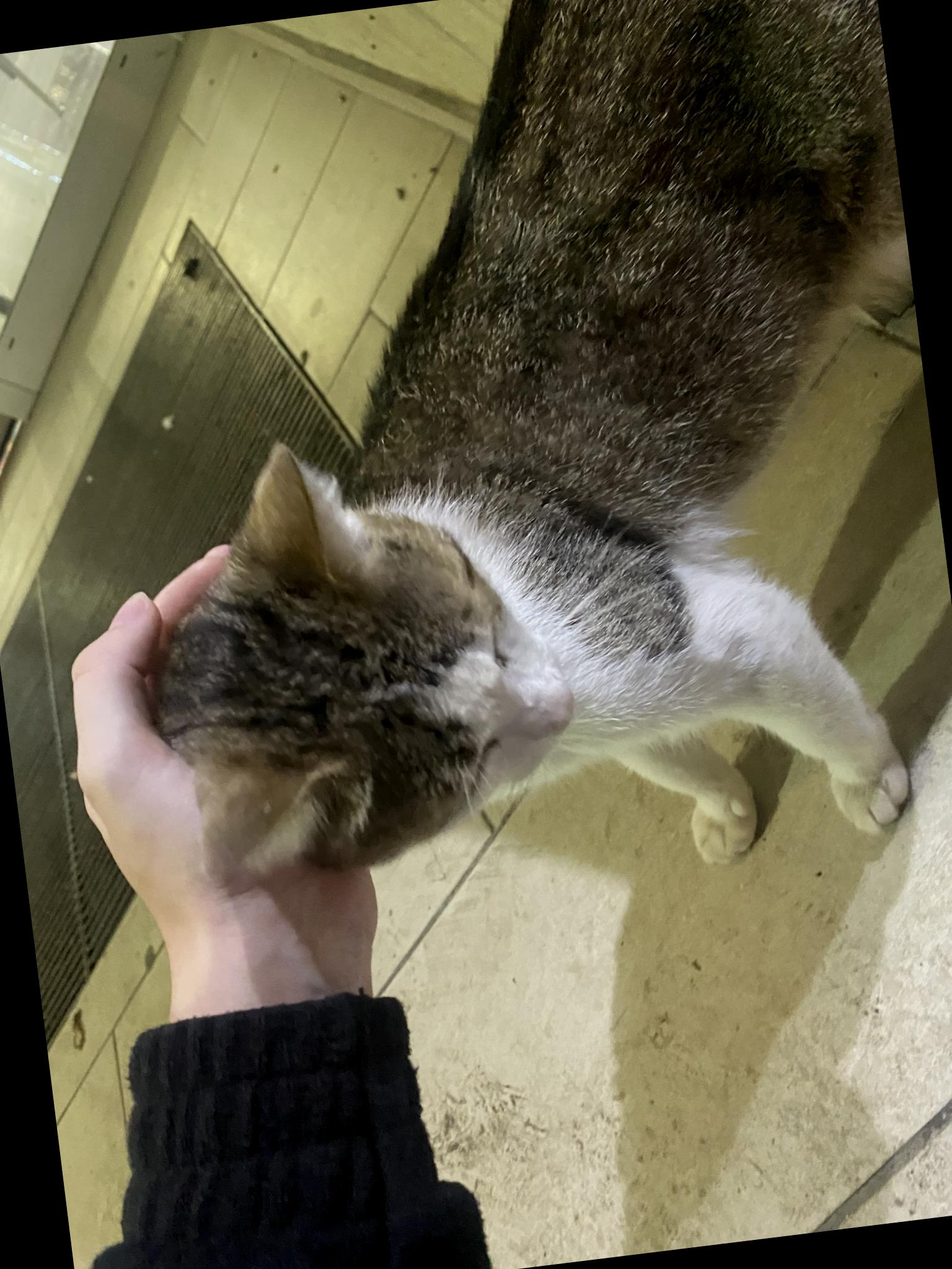macka: (63, 0, 952, 931)
